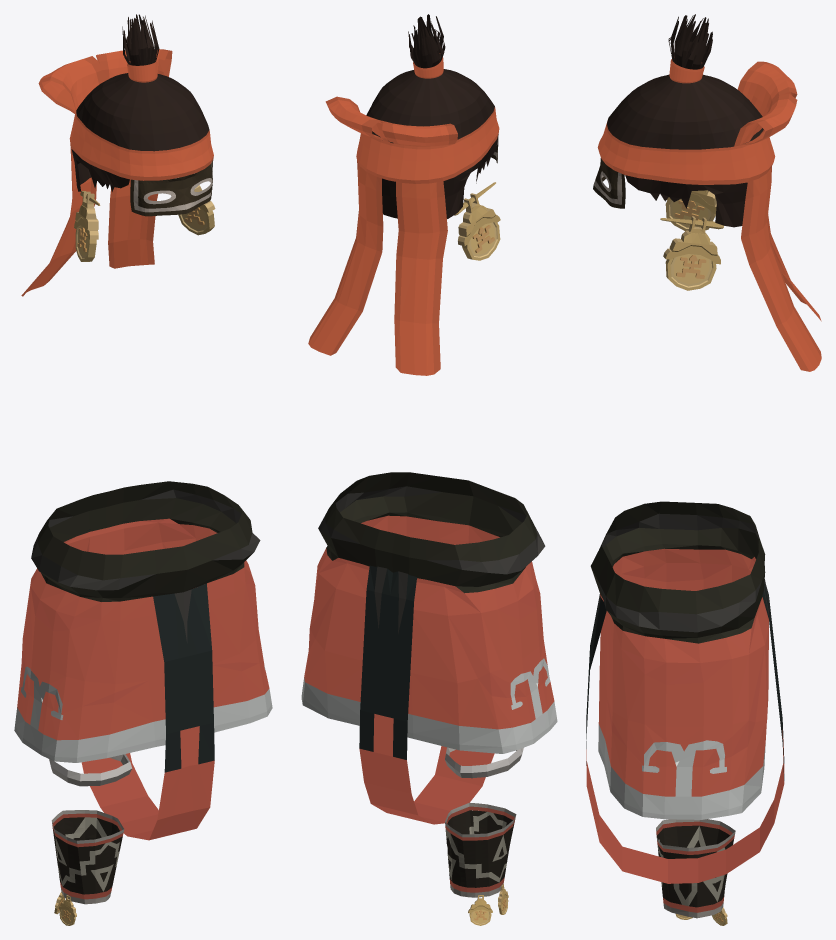
File: aztecExecutioner.glb
The picture shows the model from 3 angles, left to right: view 1: azimuth 30°, elevation 25°; view 2: azimuth 150°, elevation 25°; view 3: azimuth 270°, elevation 25°; orthographic projection. The views are drawn at different scales.
Parts seen in each view (by area): view 1: aztecExecutionerBody, aztecExecutionerHair, aztecExecutionerLegStrap, aztecExecutionerLegBand; view 2: aztecExecutionerBody, aztecExecutionerHair, aztecExecutionerLegStrap, aztecExecutionerLegBand; view 3: aztecExecutionerBody, aztecExecutionerHair, aztecExecutionerLegStrap.
Part boxes in pixels (bbox=[...]): aztecExecutionerBody: bbox=[14, 481, 272, 840]; aztecExecutionerHair: bbox=[21, 14, 215, 296]; aztecExecutionerLegStrap: bbox=[51, 810, 124, 925]; aztecExecutionerLegBand: bbox=[49, 754, 132, 786]; aztecExecutionerBody: bbox=[301, 472, 557, 824]; aztecExecutionerHair: bbox=[308, 14, 500, 375]; aztecExecutionerLegStrap: bbox=[445, 802, 516, 925]; aztecExecutionerLegBand: bbox=[445, 747, 523, 778]; aztecExecutionerBody: bbox=[586, 501, 784, 883]; aztecExecutionerHair: bbox=[593, 14, 821, 371]; aztecExecutionerLegStrap: bbox=[656, 819, 735, 925].
Size of the model in its own units: 0.5049 by 1.9 by 0.4292.
